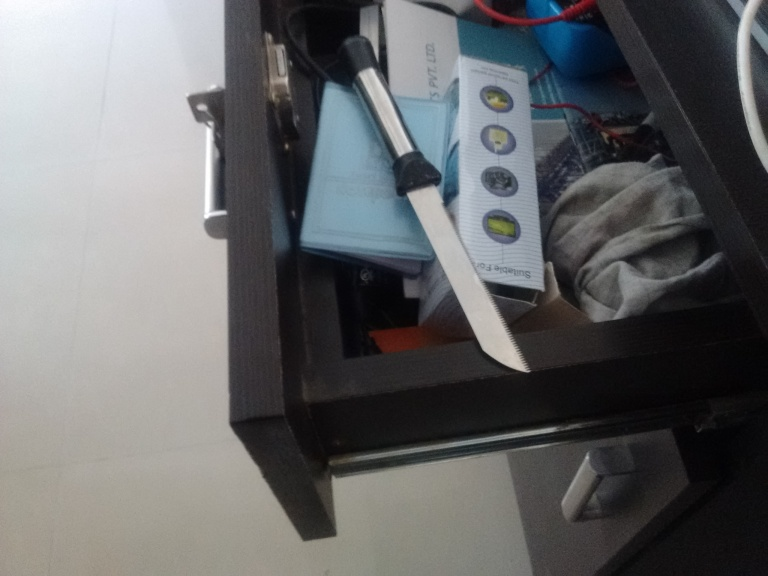knife: (337, 33, 533, 378)
